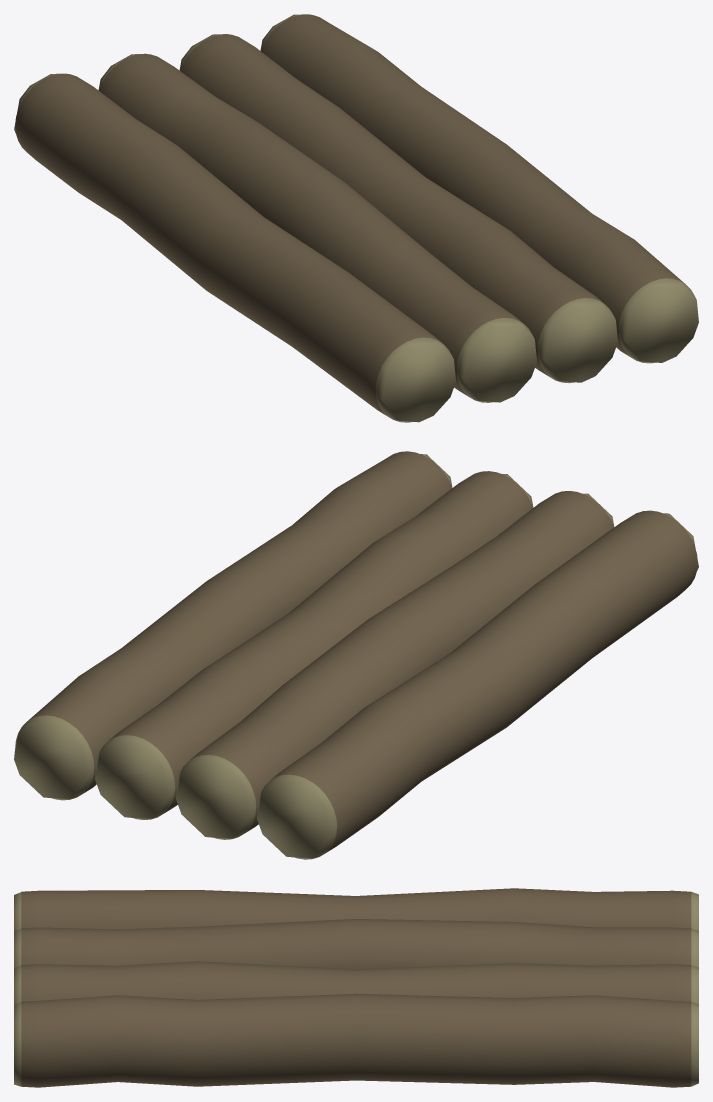
Rendered from stairs.fbx.
3 views of the same model, one above another, from view 1: azimuth 30°, elevation 25°; view 2: azimuth 150°, elevation 25°; view 3: azimuth 270°, elevation 25° (orthographic). The views are drawn at different scales.
Parts seen in each view (by area): view 1: Cylinder.002; view 2: Cylinder.002; view 3: Cylinder.002.
Part boxes in pixels (left/top/right/bottom): Cylinder.002: left=14, top=14, right=698, bottom=422; Cylinder.002: left=14, top=451, right=698, bottom=859; Cylinder.002: left=14, top=888, right=698, bottom=1087.
Bounding box in the file's own units: 694 × 204 × 1368.
